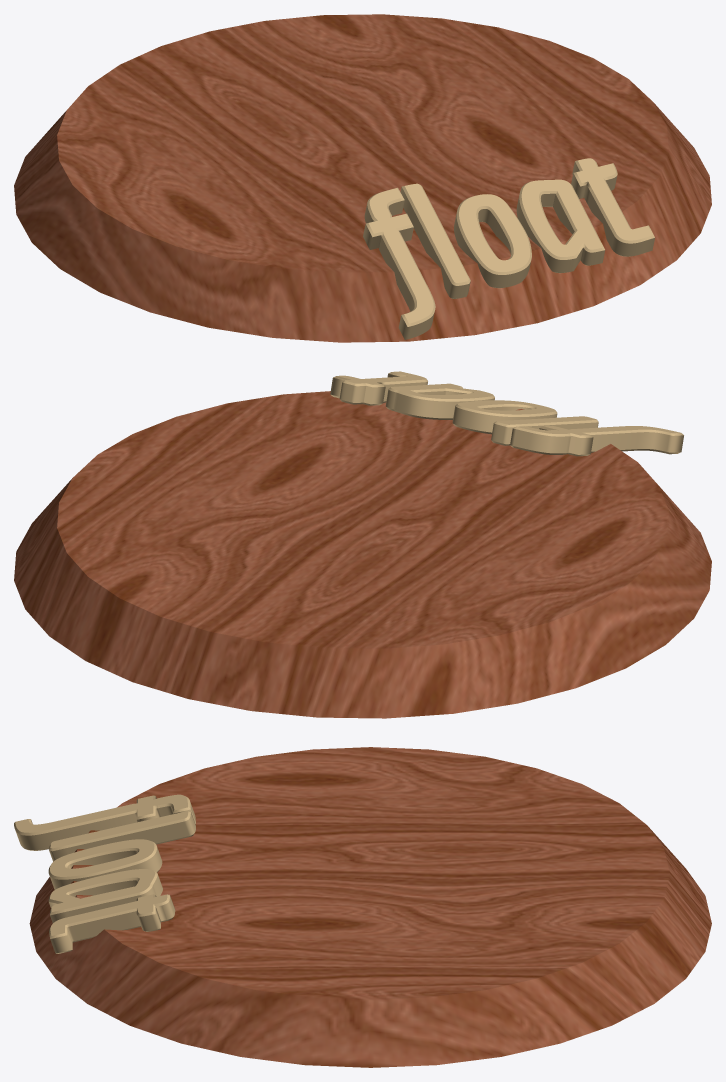
Rendered from Wand-Base-Float.fbx.
3 renders of one model, top to bottom at view 1: azimuth 30°, elevation 25°; view 2: azimuth 150°, elevation 25°; view 3: azimuth 270°, elevation 25°, orthographic. The views are drawn at different scales.
Visible parts, largest first — view 1: Cylinder; view 2: Cylinder; view 3: Cylinder.
Part boxes in pixels (x1,y1,x2,y2): Cylinder: [14, 14, 711, 342]; Cylinder: [14, 371, 711, 718]; Cylinder: [14, 747, 711, 1067].
Size of the model in its own units: 28.9 by 4.12 by 29.56.
2 materials, 1 textured.
